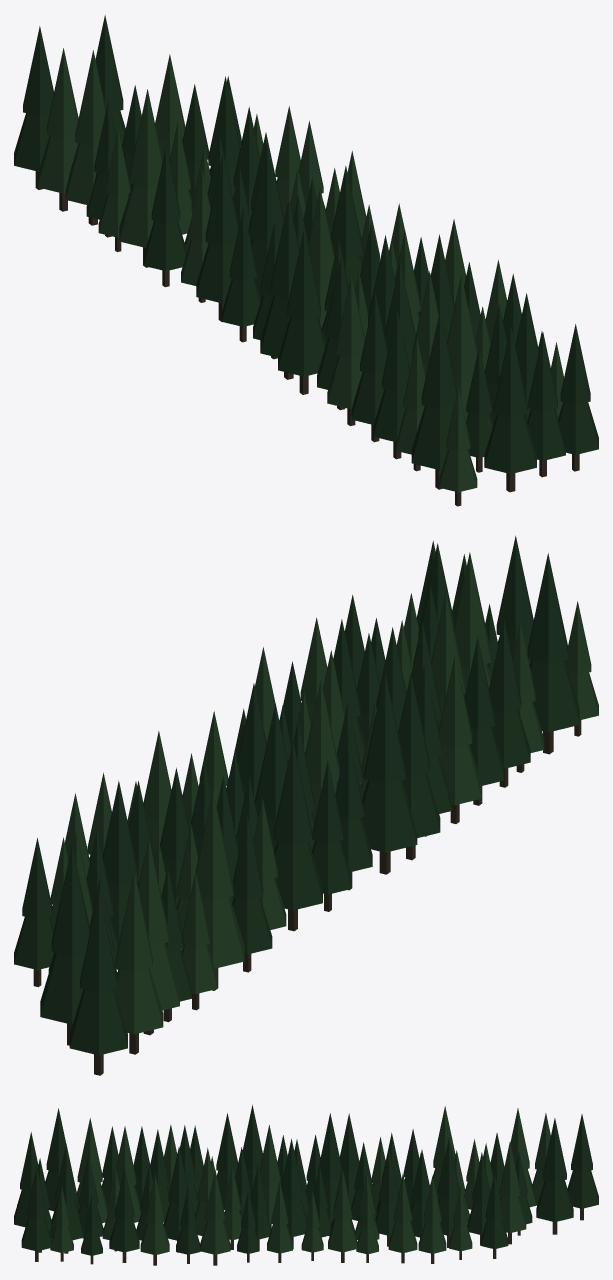
The model's file is forest_edge_07.glb.
The picture shows the model from 3 angles, top to bottom: view 1: azimuth 30°, elevation 25°; view 2: azimuth 150°, elevation 25°; view 3: azimuth 270°, elevation 25°; orthographic projection. The views are drawn at different scales.
Visible parts, largest first — view 1: chunk_0_0; view 2: chunk_0_0; view 3: chunk_0_0.
Boxes of the visible parts, box(x1,y1,x2,y2) form: chunk_0_0: box(14, 15, 598, 506); chunk_0_0: box(14, 535, 598, 1075); chunk_0_0: box(14, 1104, 598, 1265).
Size of the model in its own units: 29.28 by 27.61 by 119.
